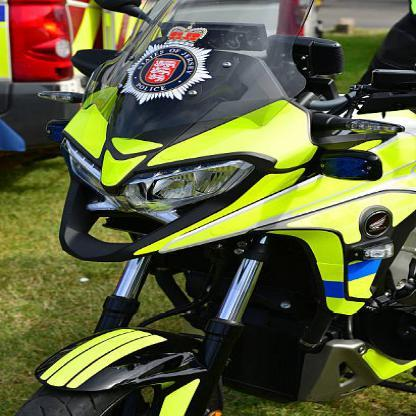Motorcycle: (38, 17, 415, 415)
